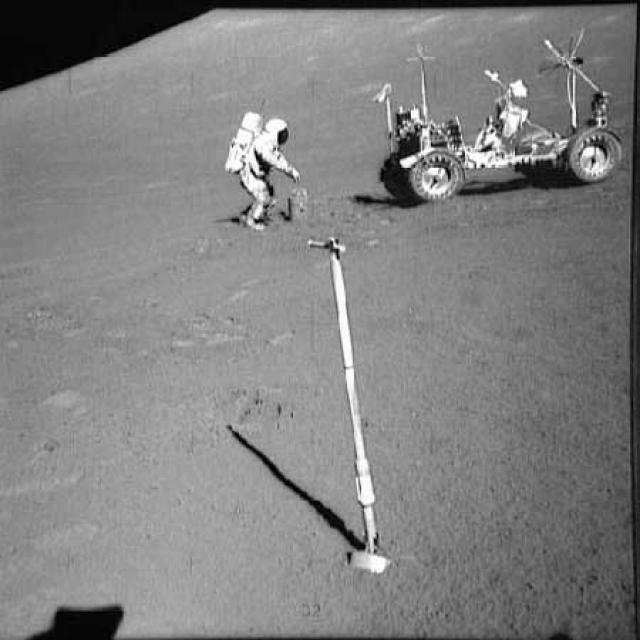artifact: (369, 21, 624, 208), (297, 229, 411, 574), (216, 98, 316, 233)
